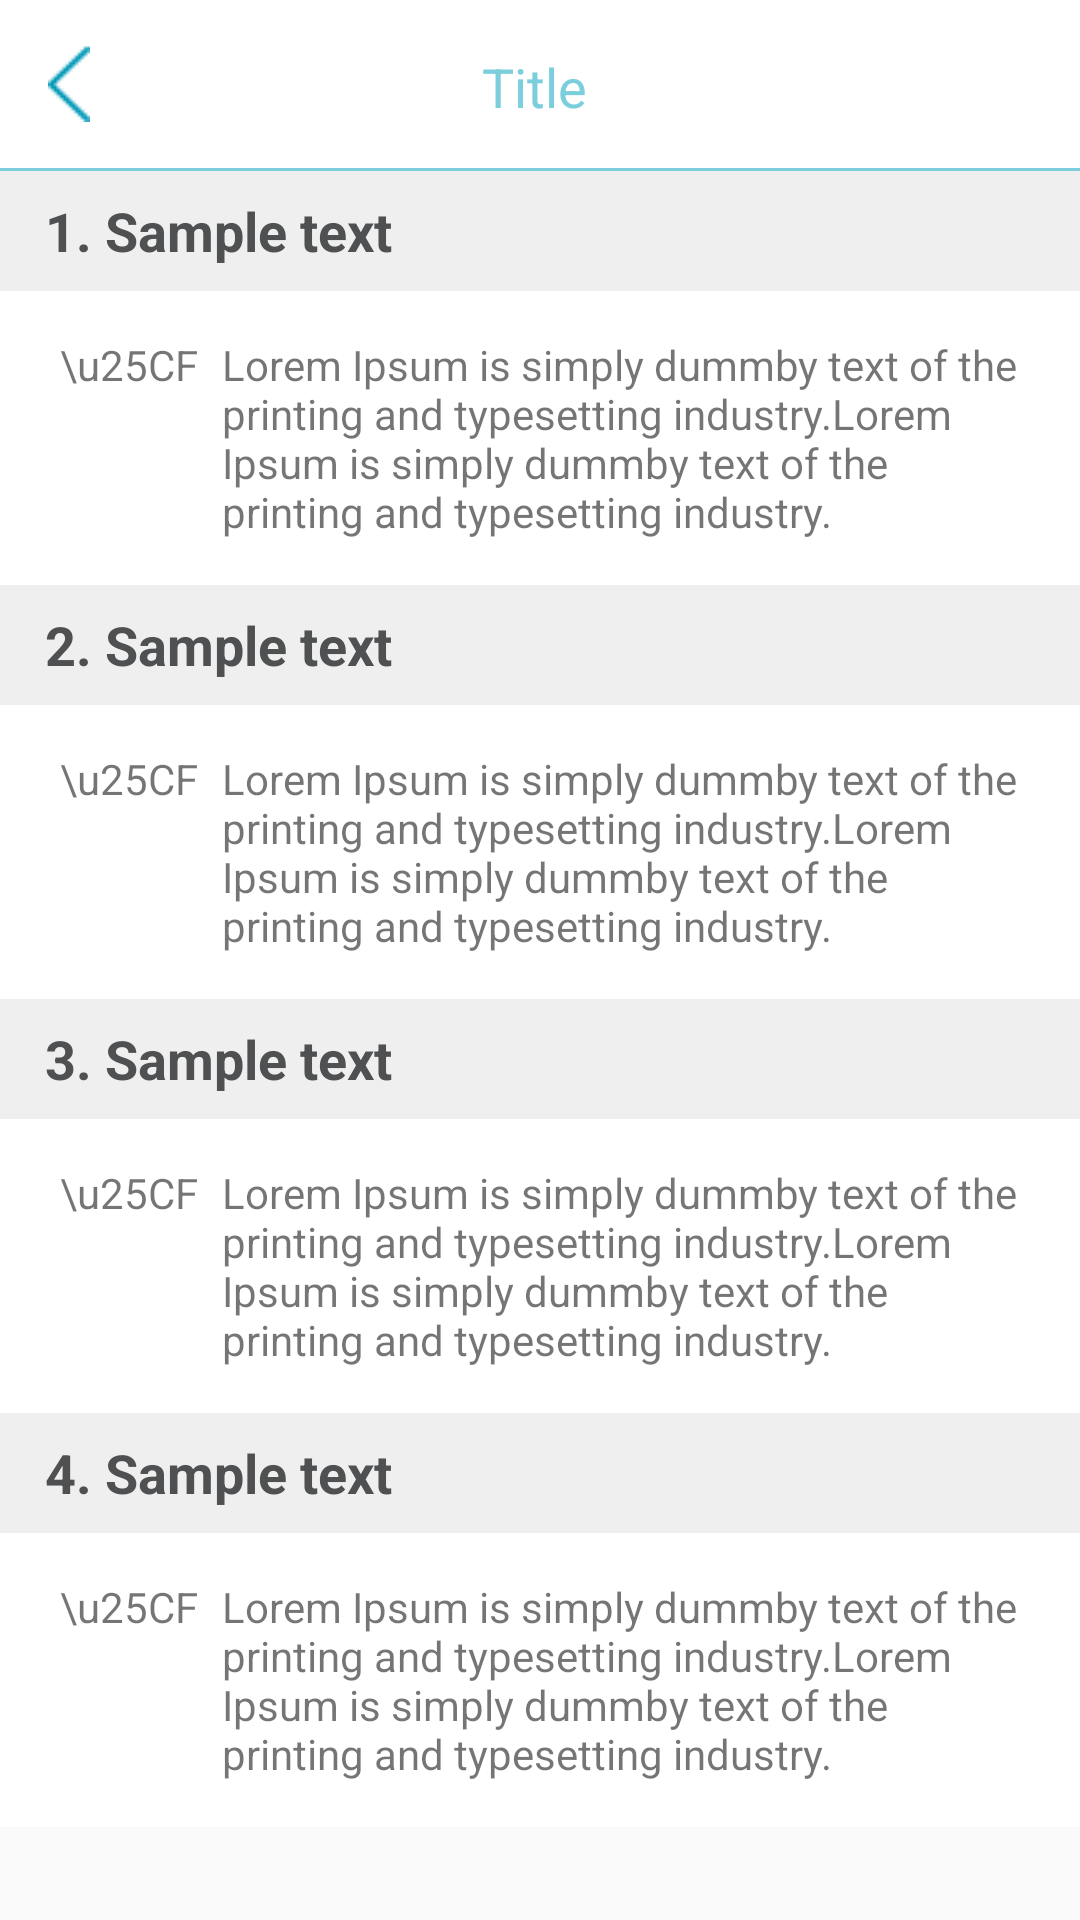

Icon bounding boxes for this 1080*1920 phone screenshot, format region(x1, y1, x2, y2):
left arrow: region(48, 46, 90, 122)
